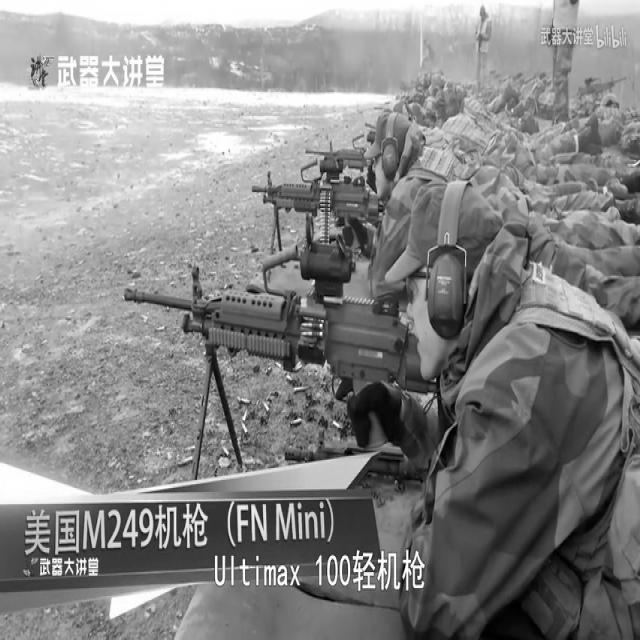Sniper: (77, 210, 440, 524), (224, 99, 370, 297), (289, 70, 402, 233)
